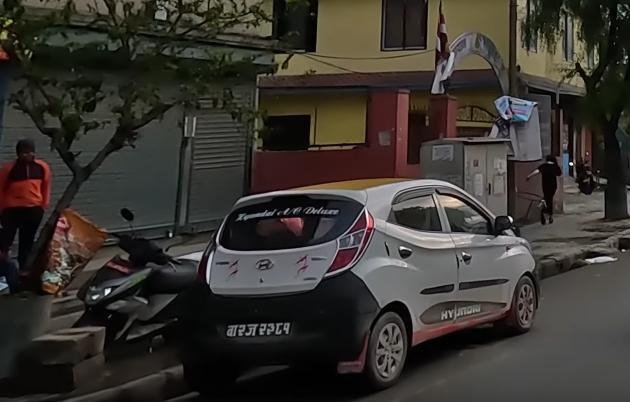scooter: (78, 209, 199, 355)
taxi: (186, 176, 545, 382)
